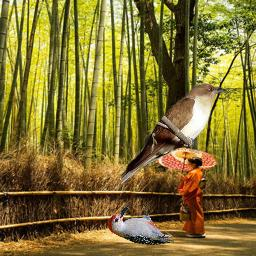Cuckoo: (121, 82, 228, 185)
Woodpecker: (108, 205, 174, 245)
